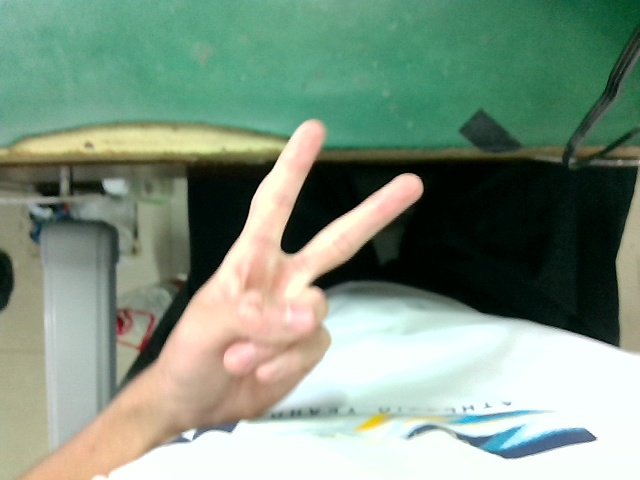scissor: (156, 111, 449, 432)
